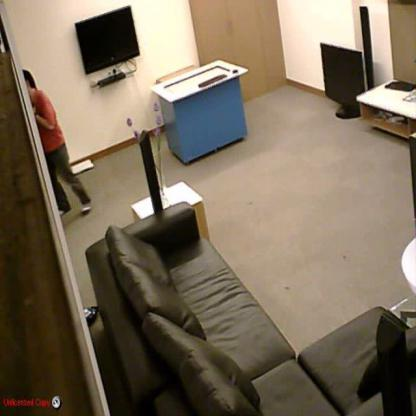Person: (21, 69, 92, 214)
